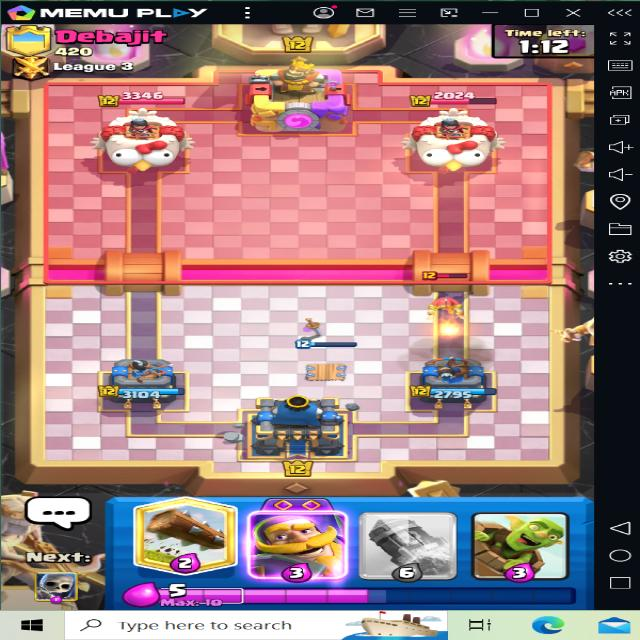wizard: (421, 280, 479, 318)
